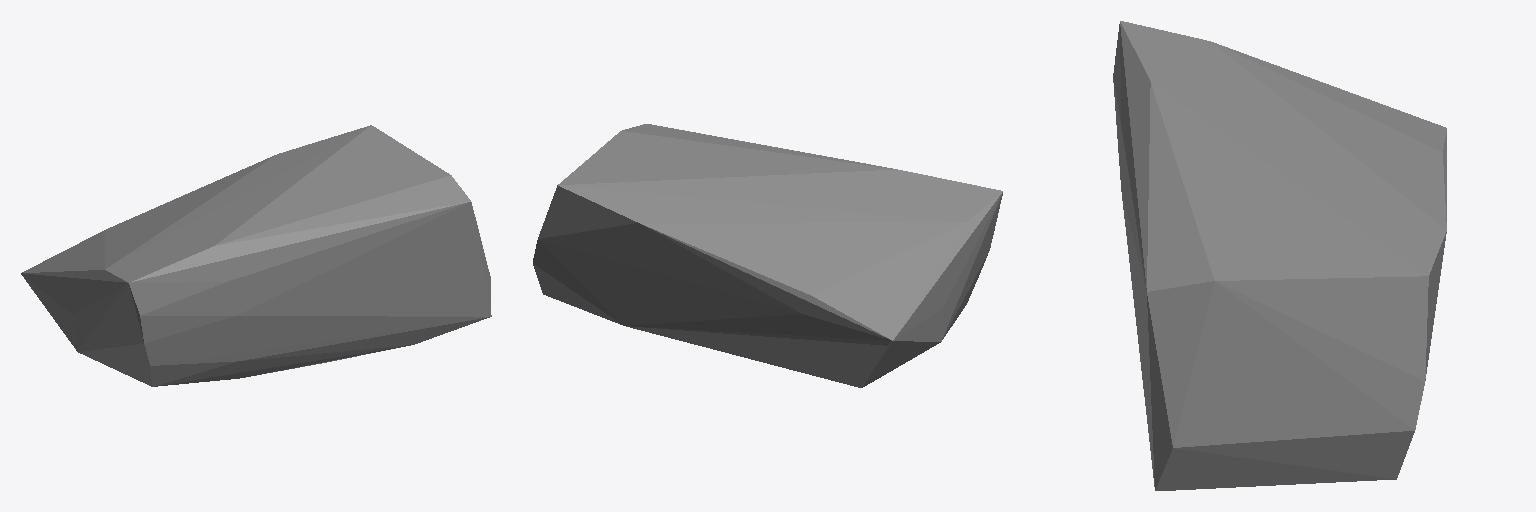
The robot description file, URDF, robot "10_678":
<?xml version="1.0"?>
<robot name="10_678">
  <link name="link">
    <contact>
      <lateral_friction value="0.6"/>
    </contact>
    <inertial>
      <mass value = "0.42623318315025893"/>
      <inertia ixx="0.00013617347294241717" ixy="1.3002420530210913e-05" ixz="-1.1872428013191951e-07" iyy="0.00042322255331014174" iyz="-5.325757996309214e-06" izz="0.00046320594526159963" />
    </inertial>
    <visual name="visual">
      <geometry>
        <mesh filename="10_678.obj"/>
      </geometry>
      <material name="material">
        <color rgba="0.5995556819133648 0.5995556819133648 0.5995556819133648 1.0"/>
      </material>
    </visual>
    <collision name="collision">
      <geometry>
        <mesh filename="10_678.obj"/>
      </geometry>
    </collision>
  </link>
</robot>

--- Facts derived from the render (not from the file) ---
3 views of the same robot in one strip: view 1: azimuth 30°, elevation 25°; view 2: azimuth 150°, elevation 25°; view 3: azimuth 270°, elevation 25° (orthographic).
Model 10_678 with 1 links and 0 joints (none), rooted at link, posed all joints at 0.
Visible links, largest first — view 1: link; view 2: link; view 3: link.
Link boxes in pixels (box(x1,y1,x2,y2)): link: box(21, 125, 491, 386); link: box(533, 124, 1002, 387); link: box(1113, 21, 1446, 490).
Size in the robot's own frame: 0.1121 by 0.0573 by 0.0424 metres.
Meshes: 1 distinct files referenced, 1 mesh visuals loaded (1 OBJ).
